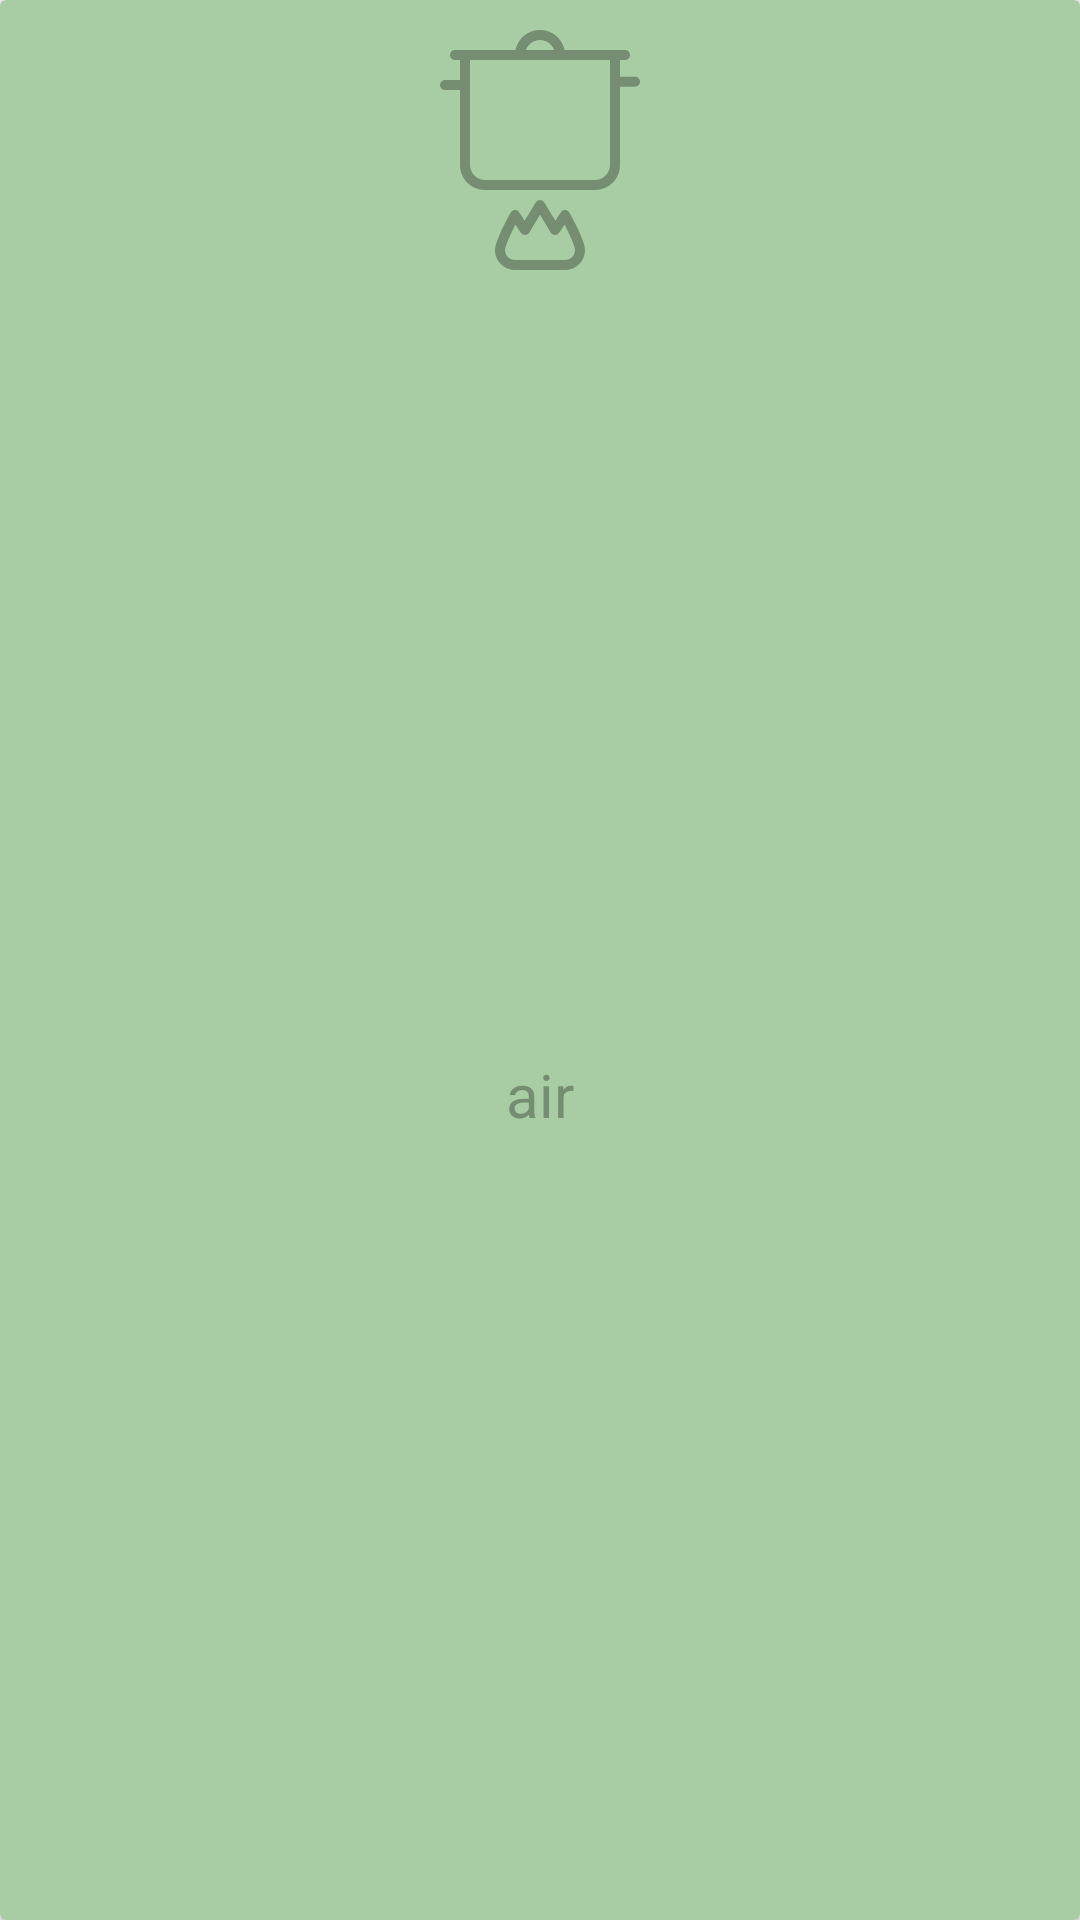

Screen size 1080*1920. Icon name, then its box in pixels as (x1, y1, x2, y2):
cook: (440, 30, 640, 270)
